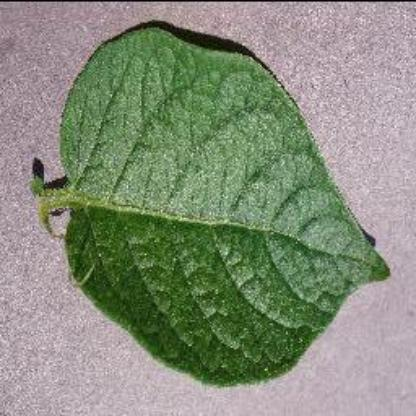Healthy-plant: (12, 15, 402, 411)
